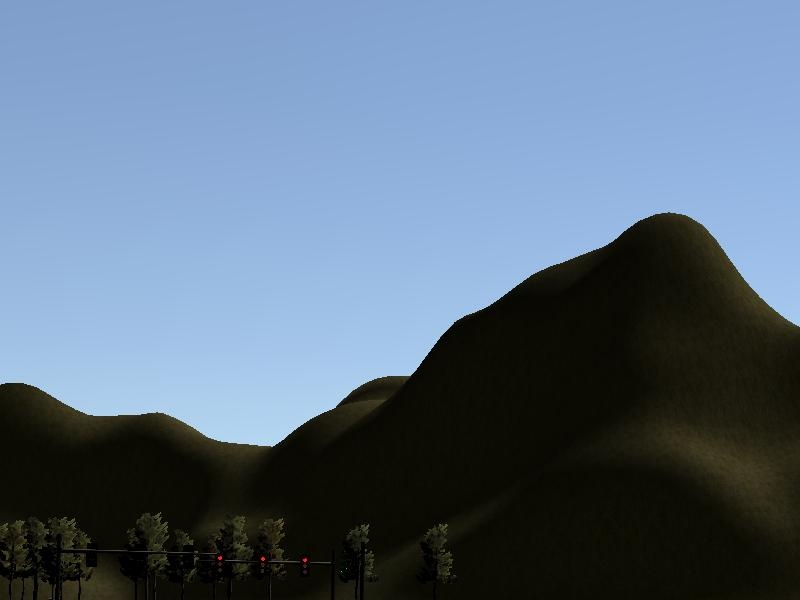RED: (257, 553, 271, 580), (213, 551, 226, 576), (299, 553, 310, 580)
